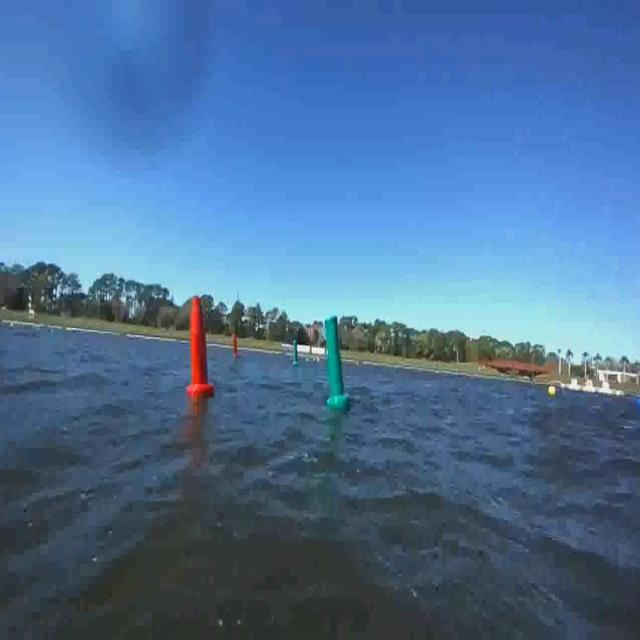green-column-buoy: (320, 313, 350, 412), (292, 339, 299, 366)
red-column-buoy: (188, 294, 215, 398), (233, 335, 242, 360)
yellow-buoy: (549, 381, 558, 397)
